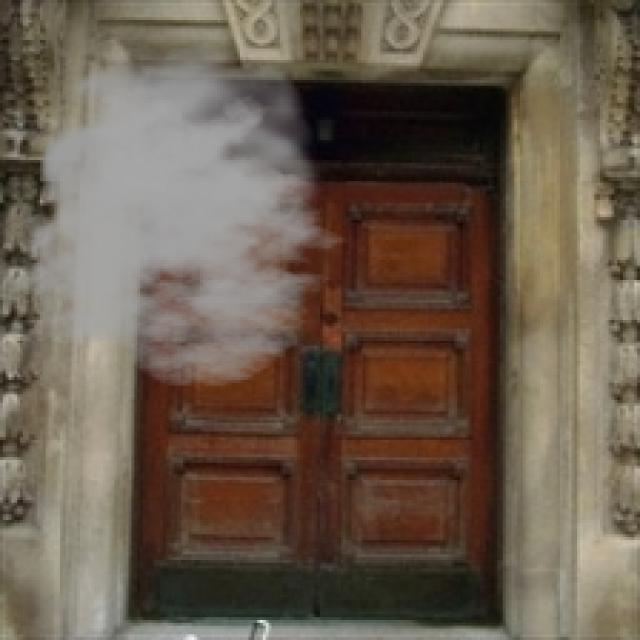Smoke: (8, 42, 363, 388)
